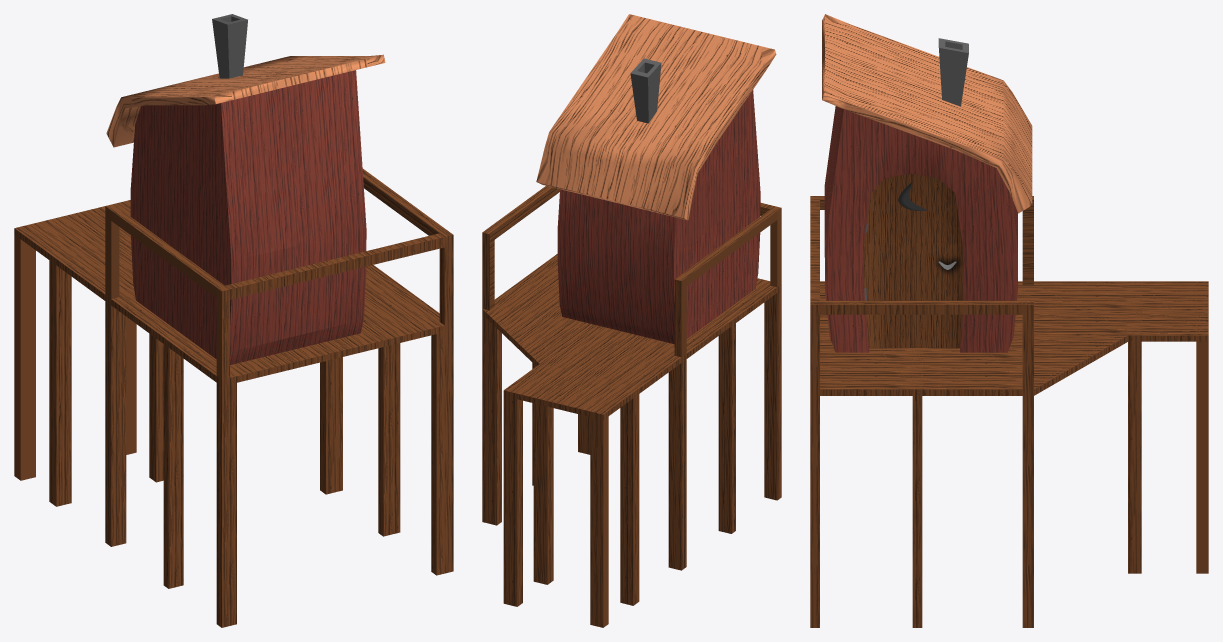
File: Outhouse.fbx
The picture shows the model from 3 angles, left to right: view 1: azimuth 30°, elevation 25°; view 2: azimuth 150°, elevation 25°; view 3: azimuth 270°, elevation 25°; orthographic projection. The views are drawn at different scales.
Visible parts, largest first — view 1: OuthouseDeck1, Outhouse; view 2: Outhouse, OuthouseDeck1; view 3: Outhouse, OuthouseDeck1.
Part boxes in pixels (<box>): OuthouseDeck1: <box>14,168,453,627</box>; Outhouse: <box>106,14,385,364</box>; Outhouse: <box>536,14,776,344</box>; OuthouseDeck1: <box>482,186,781,627</box>; Outhouse: <box>822,14,1032,352</box>; OuthouseDeck1: <box>810,196,1208,627</box>.
Bounding box in the file's own units: 2.4 × 5.31 × 3.72.
2 materials, 2 textured.
